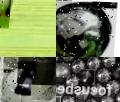ironball: (56, 0, 118, 57), (1, 60, 55, 101), (17, 57, 56, 85), (70, 57, 86, 75), (80, 68, 96, 84), (56, 62, 71, 77), (64, 73, 80, 87), (106, 78, 118, 96), (97, 70, 112, 84), (86, 57, 100, 69), (100, 57, 116, 67), (111, 63, 119, 79), (62, 94, 78, 101), (100, 95, 115, 101), (115, 94, 119, 101)
